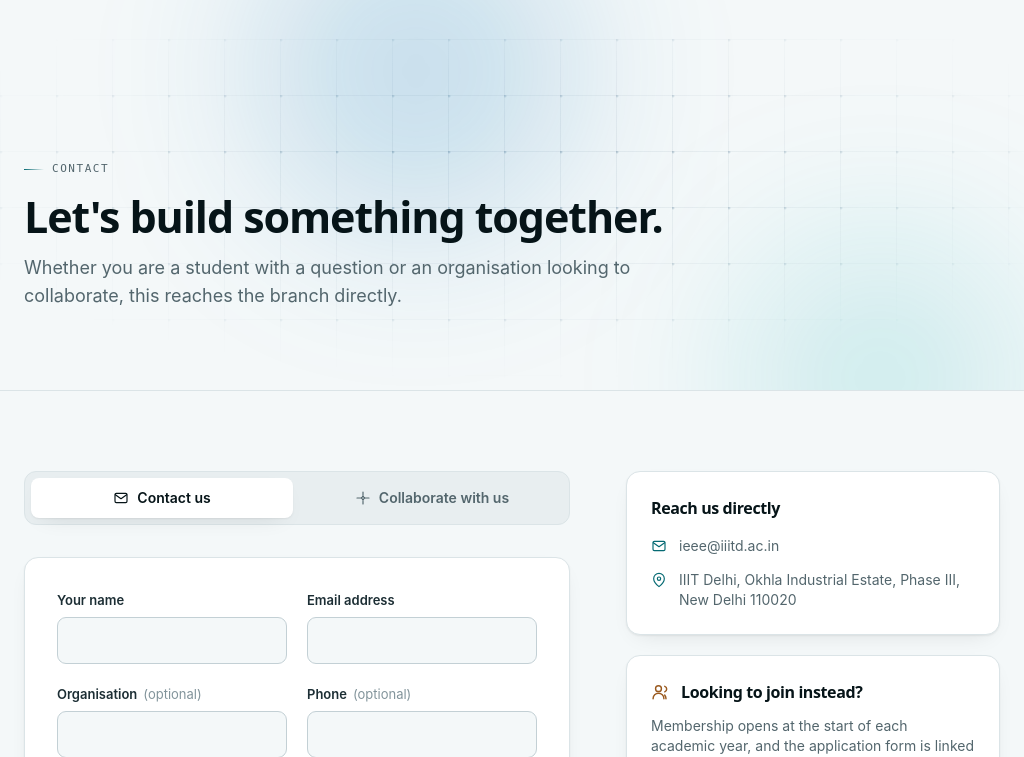
Test: ContactPage › rejects a message that is too short
This screenshot has width=1024, height=757.
Step 1. Type "Priya Sharma" into the field labelled "Your name" → (172, 640), box [57,617,287,664]
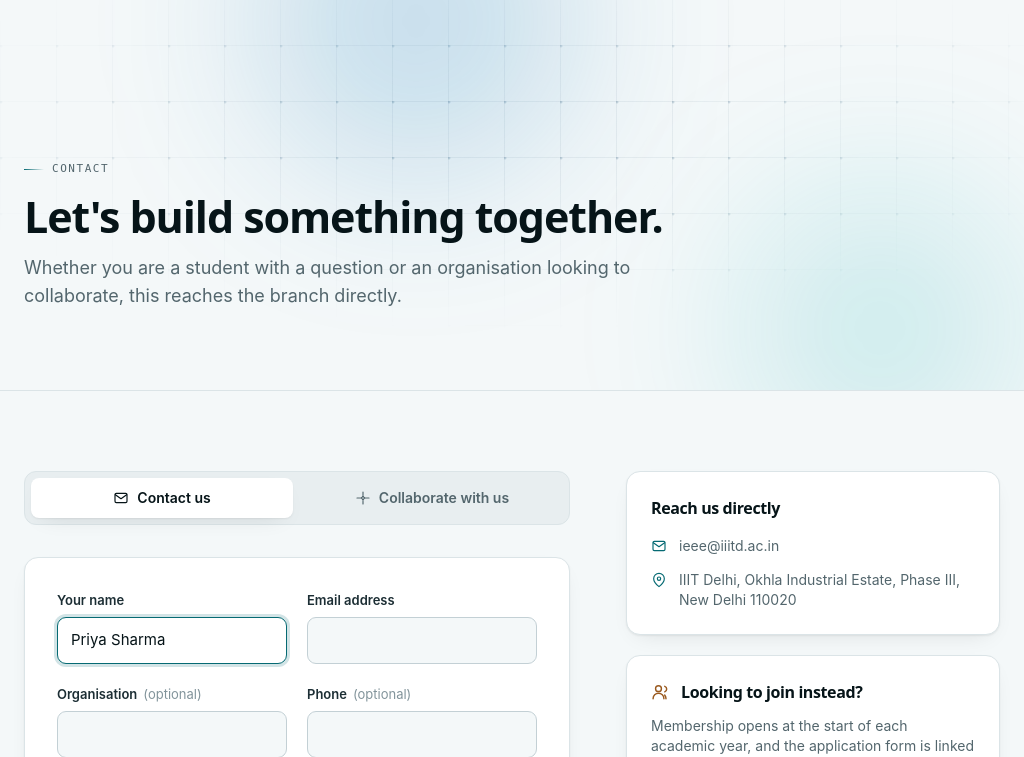
Step 2. Type "priya@example.com" into the field labelled "Email address" → (422, 640), box [307,617,537,664]
(page scrolled)
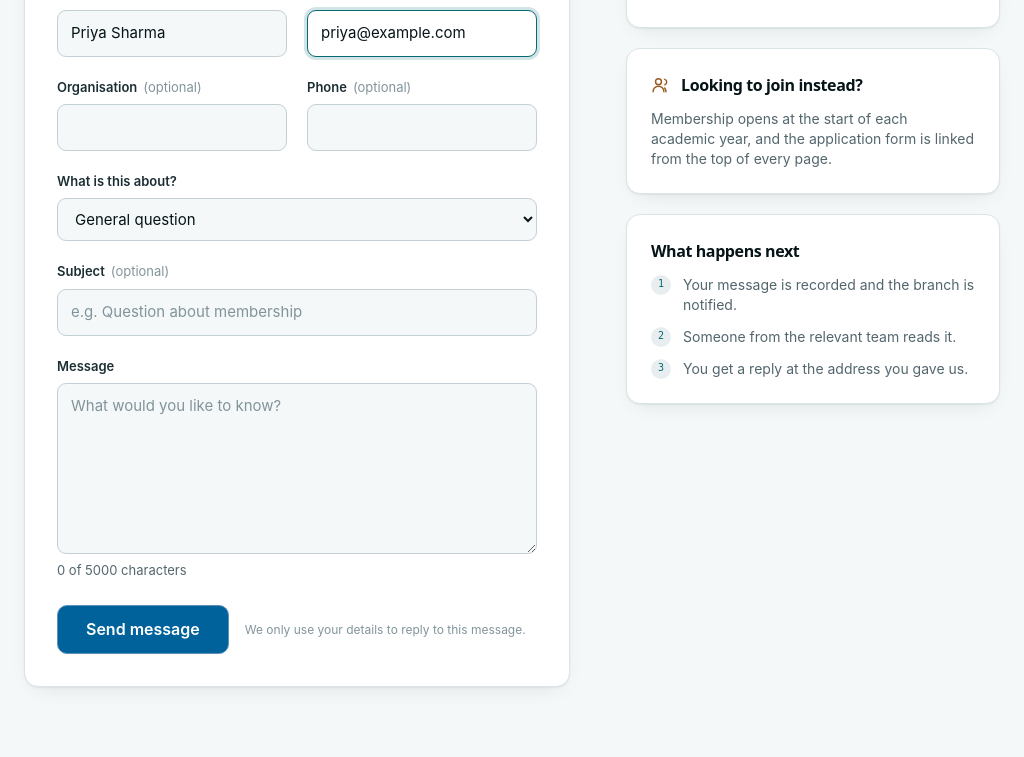
Step 3. Type "too short" into the text box labelled "Message" → (297, 468), box [57,383,537,554]
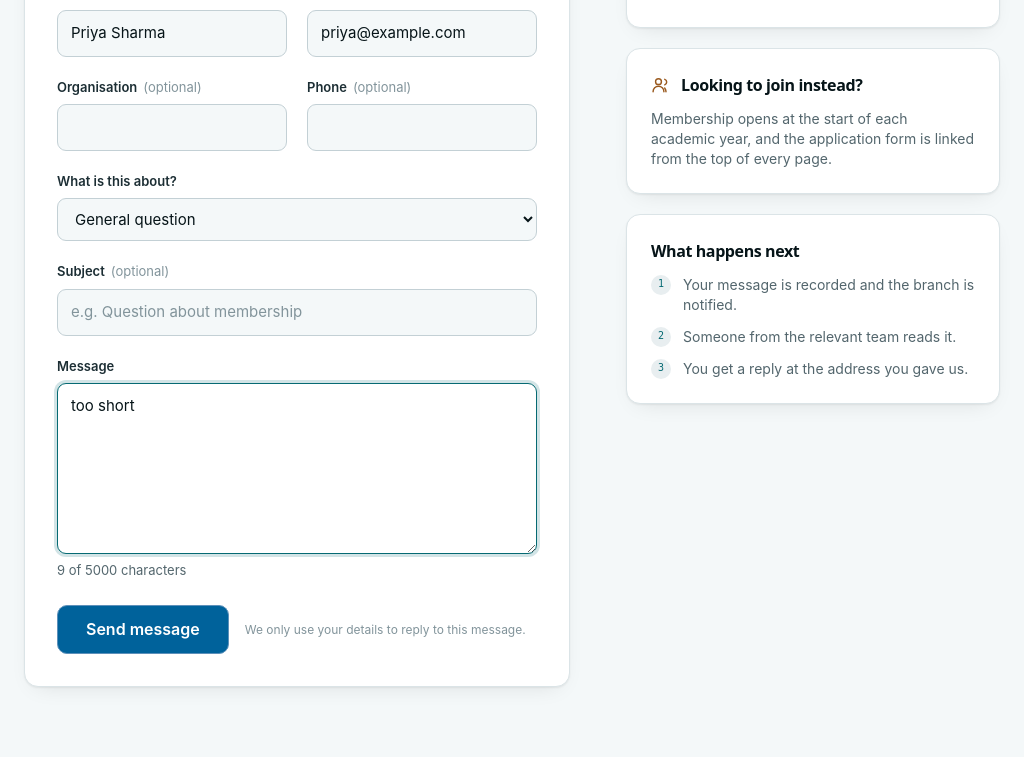
Step 4. Click the button "Send message" → click(143, 630), box [57,605,229,654]
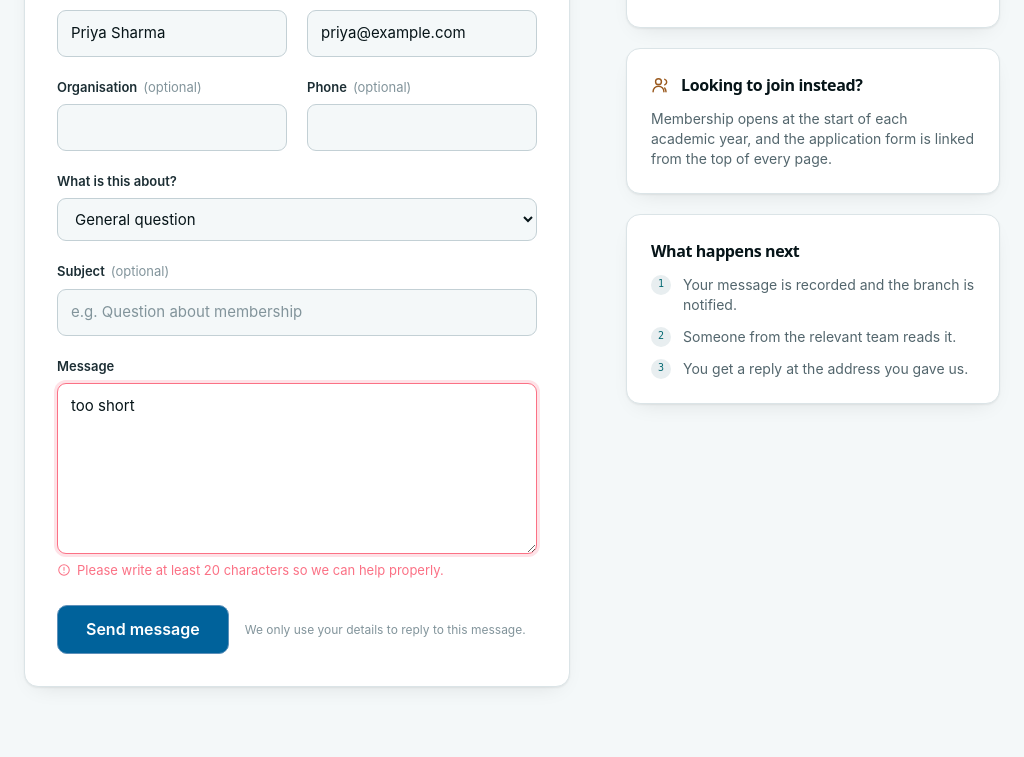
Check: the text "Please write at least 20 characters so we can help properly." is shown, box [57,562,444,578]
